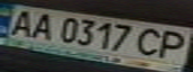0: (54, 15, 81, 45)
1: (90, 19, 115, 51)
3: (75, 17, 96, 47)
7: (109, 21, 136, 53)
A: (3, 7, 42, 37), (24, 10, 60, 40)
C: (133, 25, 169, 58)
P: (151, 28, 193, 61)
